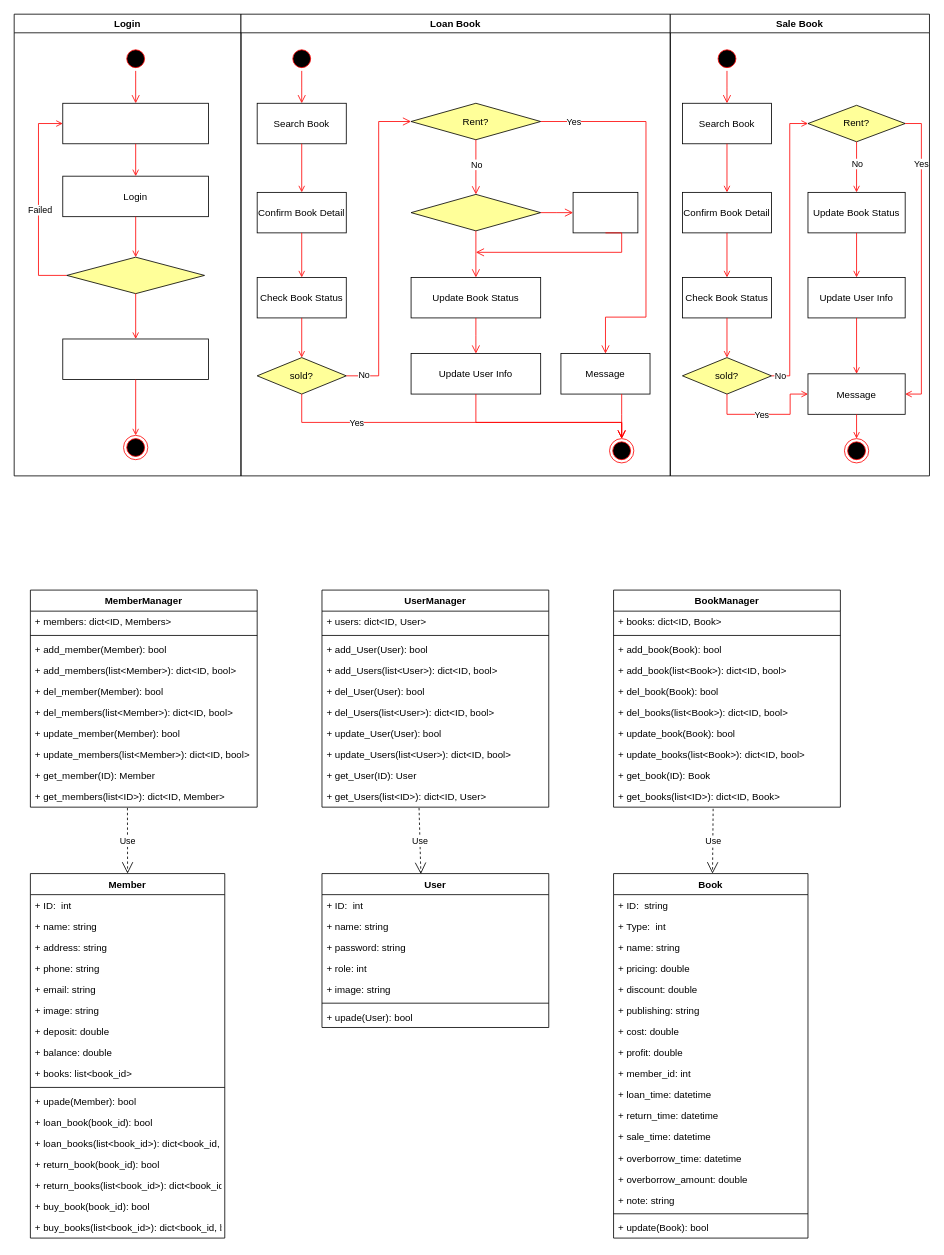
The diagram is 944 pixels wide and 1255 high, and some of its shapes have lost their labels. The shapes that lost their labels are listed below. From the top down, each one's centre as x and y in pixels, then its label:
At point (135, 123): "Input Username/Password".
At point (475, 212): "Balance Enough?".
At point (605, 212): "Add Balance".
At point (135, 275): "User Verify".
At point (135, 358): "3A Book Management".
